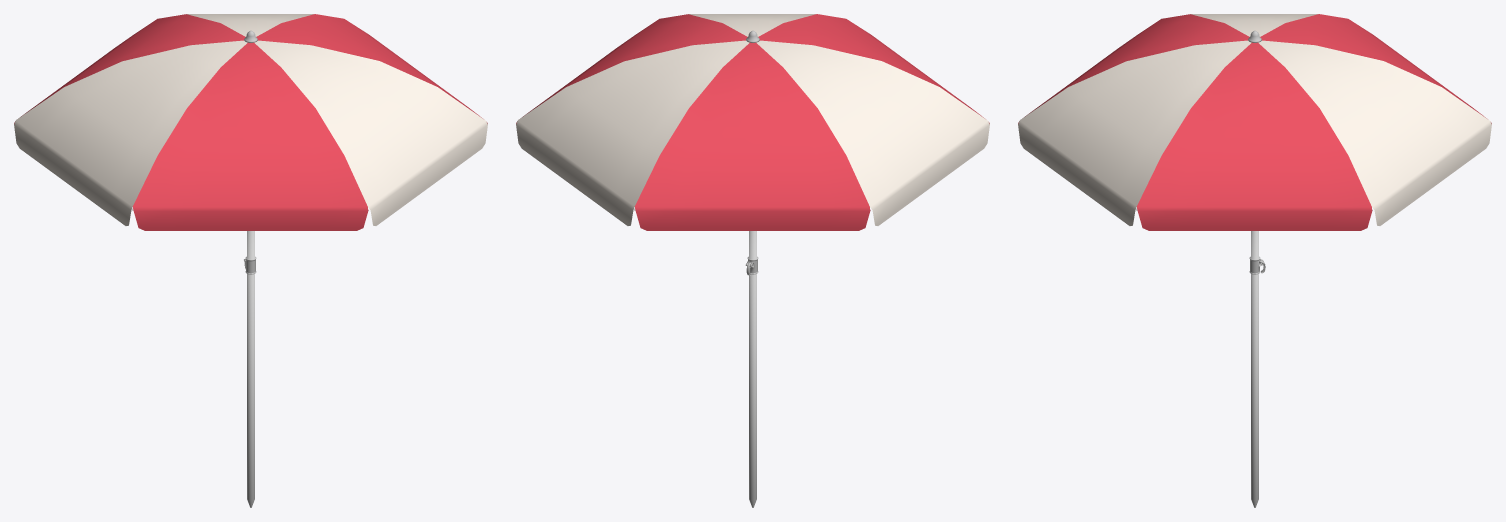
File: Umbrella.FBX
3 renders of one model, left to right at view 1: azimuth 30°, elevation 25°; view 2: azimuth 150°, elevation 25°; view 3: azimuth 270°, elevation 25°, orthographic.
Visible parts, largest first — view 1: Umbrella; view 2: Umbrella; view 3: Umbrella.
Part boxes in pixels (x1=…): Umbrella: x1=14, y1=14, x2=487, y2=507; Umbrella: x1=516, y1=14, x2=989, y2=507; Umbrella: x1=1018, y1=14, x2=1491, y2=507.
Bounding box in the file's own units: 127 × 162 × 146.
